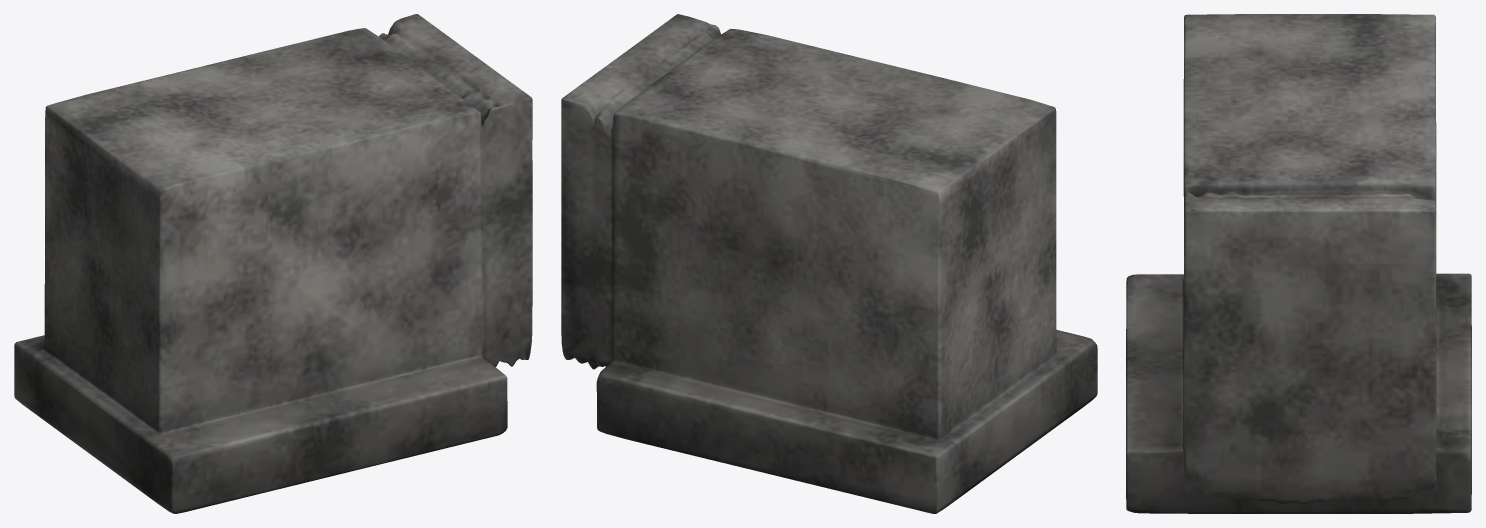
Rendered from old-granite-fireplace-v001.glb.
3 views of the same model, side by side, from view 1: azimuth 30°, elevation 25°; view 2: azimuth 150°, elevation 25°; view 3: azimuth 270°, elevation 25° (orthographic). The views are drawn at different scales.
Parts seen in each view (by area): view 1: old-granite-fireplace; view 2: old-granite-fireplace; view 3: old-granite-fireplace.
Part boxes in pixels (x1=…): old-granite-fireplace: x1=14, y1=14, x2=532, y2=513; old-granite-fireplace: x1=561, y1=14, x2=1097, y2=513; old-granite-fireplace: x1=1126, y1=14, x2=1471, y2=513.
Size of the model in its own units: 1.95 by 1.47 by 1.38.
Materials: 1 (1 with a texture image).
